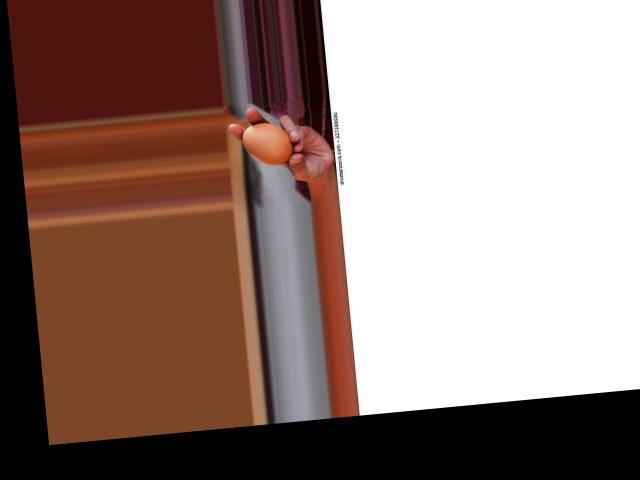egg: (241, 119, 294, 166)
